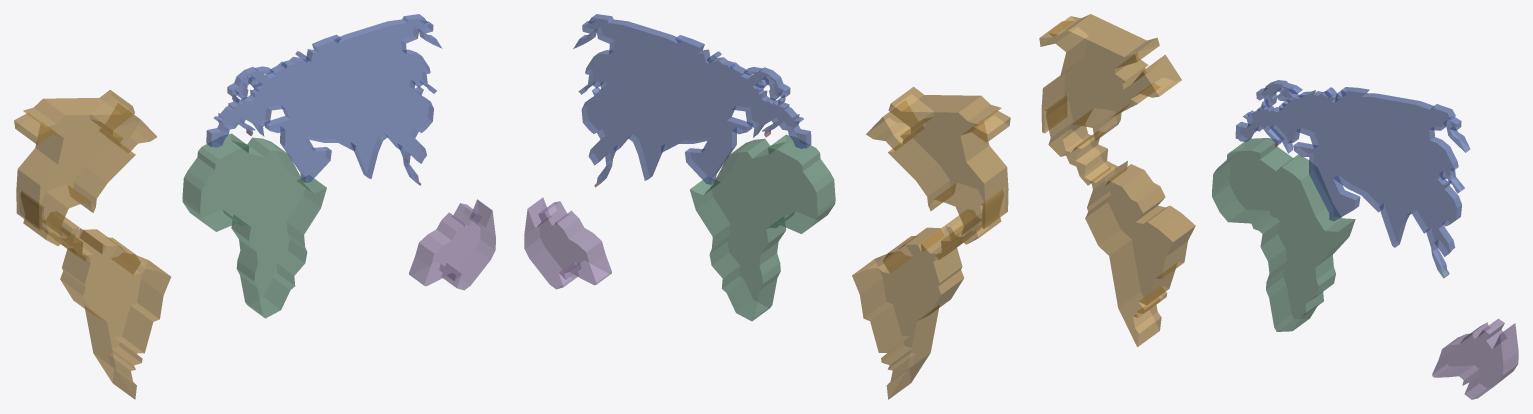
The model's file is world.obj.
The picture shows the model from 3 angles, left to right: view 1: azimuth 30°, elevation 25°; view 2: azimuth 150°, elevation 25°; view 3: azimuth 330°, elevation 25°; orthographic projection.
Visible parts, largest first — view 1: Cube_Cube.001; view 2: Cube_Cube.001; view 3: Cube_Cube.001.
Part boxes in pixels (left/top/right/bottom): Cube_Cube.001: left=14, top=14, right=495, bottom=399; Cube_Cube.001: left=524, top=14, right=1010, bottom=399; Cube_Cube.001: left=1039, top=14, right=1518, bottom=399.
Bounding box in the file's own units: 8.88 × 5.54 × 0.7578.
1 material, 1 textured.
